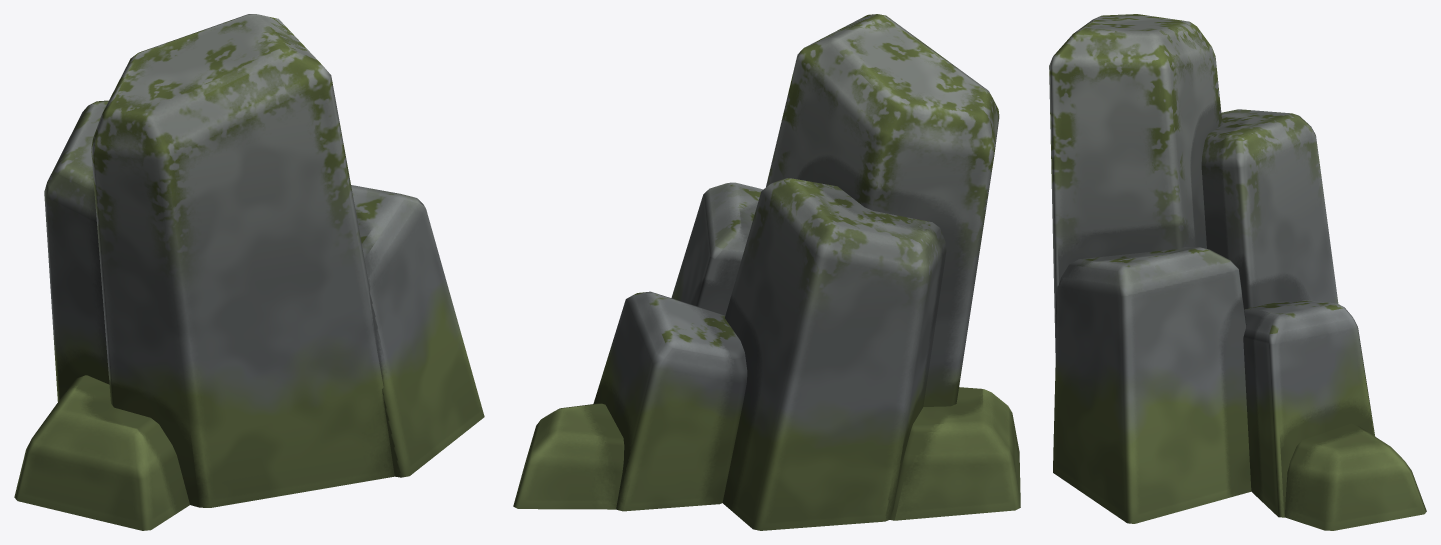
The model's file is crag_1_mossy.glb.
The picture shows the model from 3 angles, left to right: view 1: azimuth 30°, elevation 25°; view 2: azimuth 150°, elevation 25°; view 3: azimuth 270°, elevation 25°; orthographic projection. The views are drawn at different scales.
Visible parts, largest first — view 1: crag_1_mossy; view 2: crag_1_mossy; view 3: crag_1_mossy.
Boxes of the visible parts, x1,y1,x2,y2 form: crag_1_mossy: [14, 14, 484, 530]; crag_1_mossy: [513, 14, 1020, 530]; crag_1_mossy: [1049, 14, 1426, 530].
Bounding box in the file's own units: 3.2 × 3 × 2.6.
Materials: 1 (1 with a texture image).
